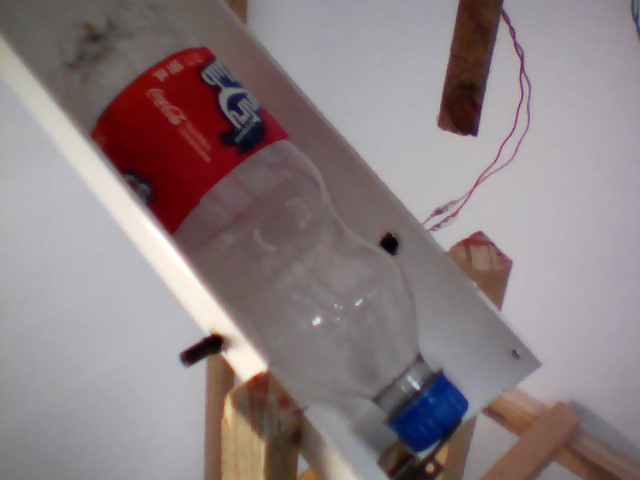plastico: (41, 1, 475, 459)
